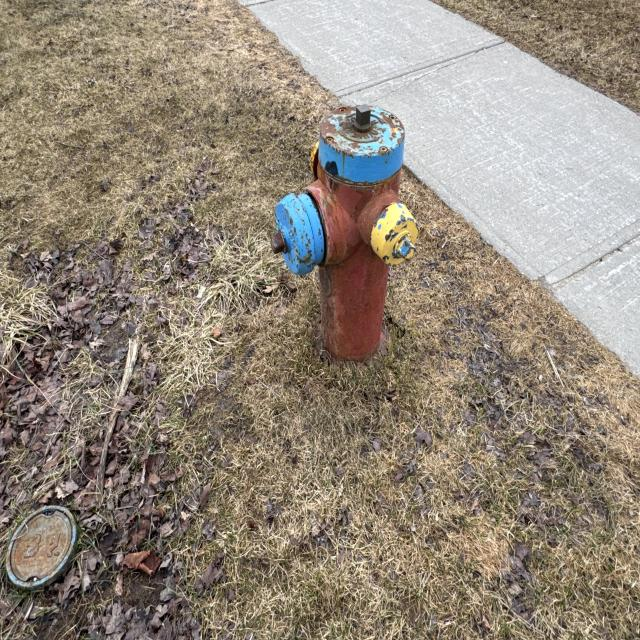Fire hydrant: (270, 104, 419, 368)
